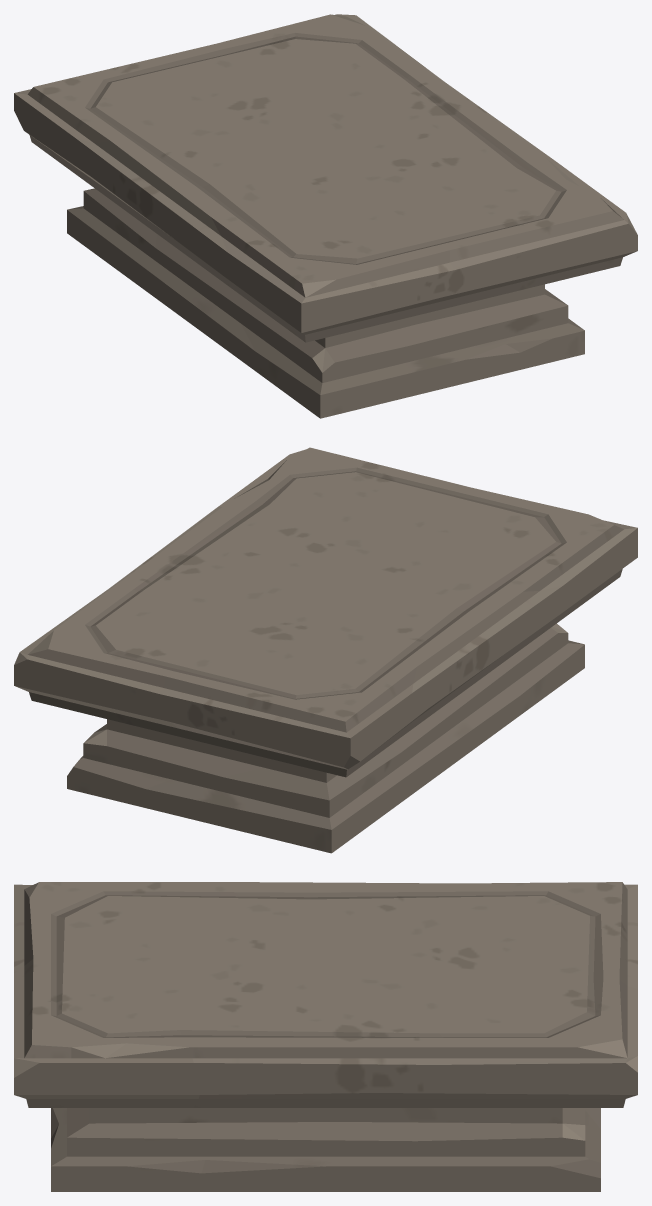
File: forge_table.gltf
3 renders of one model, top to bottom at view 1: azimuth 30°, elevation 25°; view 2: azimuth 150°, elevation 25°; view 3: azimuth 270°, elevation 25°, orthographic. The views are drawn at different scales.
Parts seen in each view (by area): view 1: forge_table; view 2: forge_table; view 3: forge_table.
Part boxes in pixels (x1=…): forge_table: x1=14, y1=14, x2=637, y2=418; forge_table: x1=14, y1=447, x2=637, y2=853; forge_table: x1=14, y1=882, x2=637, y2=1191.
Bounding box in the file's own units: 1.37 × 0.5624 × 2.02.
1 material, 1 textured.
